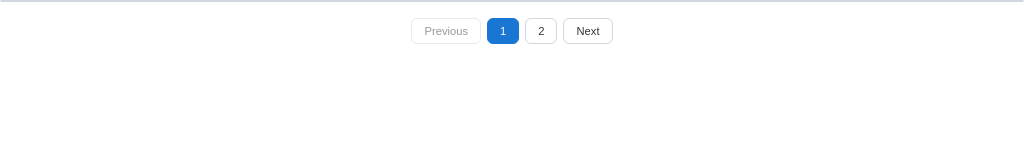
Scenario: TableComponent › should disable the next page button when at last page
Click the button "2" at {"x": 541, "y": 31}, box top-left (525, 18), bottom-right (558, 44)
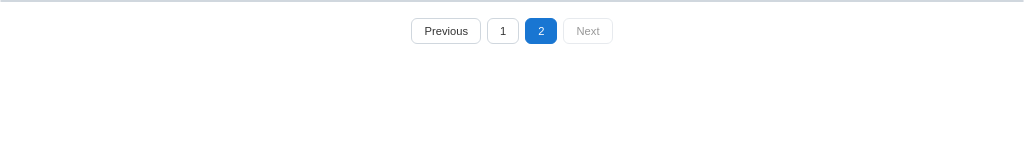
Check: the button "Next" is disabled, box top-left (564, 18), bottom-right (612, 44)
